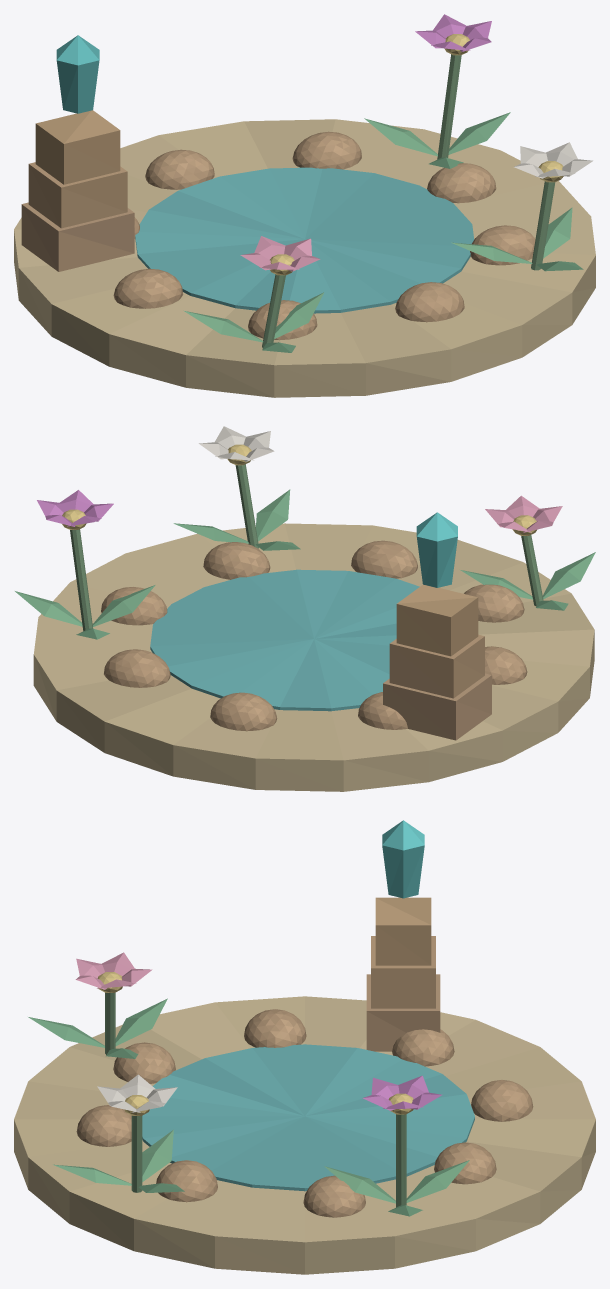
The model's file is oasis_crystal_spring.glb.
3 views of the same model, one above another, from view 1: azimuth 30°, elevation 25°; view 2: azimuth 150°, elevation 25°; view 3: azimuth 270°, elevation 25° (orthographic). The views are drawn at different scales.
Visible parts, largest first — view 1: sand, pool, spring_block_2, spring_block_0, spring_block_1, spring_crystal, pool_stone_4, pool_stone_6, pool_stone_2, pool_stone_1, pool_stone_0, pool_stone_7 (+10 smaller); view 2: sand, pool, spring_block_2, spring_block_0, spring_block_1, spring_crystal, pool_stone_1, pool_stone_2, pool_stone_6, pool_stone_7, pool_stone_5, pool_stone_0 (+11 smaller); view 3: sand, pool, spring_block_2, spring_block_1, spring_block_0, spring_crystal, pool_stone_2, pool_stone_4, pool_stone_0, pool_stone_6, pool_stone_7, pool_stone_3 (+11 smaller).
Part boxes in pixels (x1,y1,x2,y2): sand: (14, 119, 595, 397); pool: (135, 167, 474, 313); spring_block_2: (35, 110, 120, 184); spring_block_0: (21, 202, 134, 271); spring_block_1: (28, 162, 127, 228); spring_crystal: (56, 35, 99, 113); pool_stone_4: (113, 268, 183, 308); pool_stone_6: (395, 282, 464, 322); pool_stone_2: (145, 149, 214, 189); pool_stone_1: (292, 131, 361, 169); pool_stone_0: (427, 163, 496, 203); pool_stone_7: (470, 225, 535, 265); sand: (33, 523, 594, 791); pool: (150, 569, 419, 711); spring_block_2: (396, 584, 478, 656); spring_block_0: (383, 673, 491, 740); spring_block_1: (389, 634, 484, 698); spring_crystal: (416, 512, 457, 587); pool_stone_1: (104, 649, 170, 687); pool_stone_2: (210, 692, 277, 731); pool_stone_6: (351, 540, 417, 578); pool_stone_7: (203, 542, 270, 579); pool_stone_5: (464, 584, 524, 622); pool_stone_0: (101, 587, 167, 625); sand: (14, 996, 595, 1274); pool: (142, 1044, 474, 1191); spring_block_2: (375, 897, 431, 965); spring_block_1: (371, 936, 435, 1008); spring_block_0: (366, 974, 440, 1051); spring_crystal: (382, 820, 424, 898); pool_stone_2: (471, 1080, 533, 1121); pool_stone_4: (244, 1009, 306, 1047); pool_stone_0: (303, 1175, 365, 1217); pool_stone_6: (76, 1105, 131, 1146); pool_stone_7: (156, 1160, 217, 1202); pool_stone_3: (392, 1029, 454, 1066).
Size of the model in its own units: 2.63 by 1.21 by 2.6.
